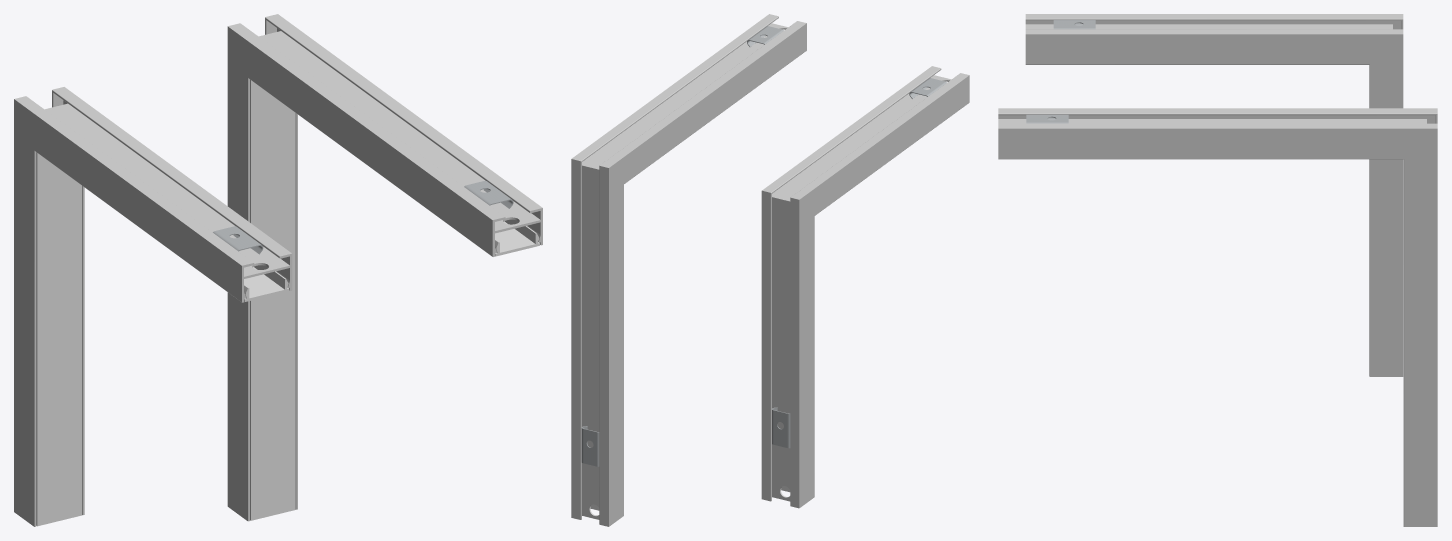
The model's file is Fit25Plafon-curva-teto-parede.glb.
The picture shows the model from 3 angles, left to right: view 1: azimuth 30°, elevation 25°; view 2: azimuth 150°, elevation 25°; view 3: azimuth 270°, elevation 25°; orthographic projection. The views are drawn at different scales.
Visible parts, largest first — view 1: 3DGeom-1 (×2), 3DGeom-7 (×2), 3DGeom-5 (×2), 3DGeom-9 (×2), 3DGeom-11, 3DGeom-3; view 2: 3DGeom-1 (×2), 3DGeom-7 (×2), 3DGeom-3, 3DGeom-11; view 3: 3DGeom-1 (×2), 3DGeom-7 (×2).
Part boxes in pixels (left/top/right/bottom): 3DGeom-1 (×2): left=227, top=14, right=542, bottom=521; 3DGeom-7 (×2): left=14, top=87, right=292, bottom=526; 3DGeom-5 (×2): left=250, top=79, right=539, bottom=520; 3DGeom-9 (×2): left=36, top=152, right=289, bottom=526; 3DGeom-11: left=213, top=226, right=263, bottom=254; 3DGeom-3: left=464, top=180, right=513, bottom=208; 3DGeom-1 (×2): left=571, top=14, right=806, bottom=526; 3DGeom-7 (×2): left=761, top=66, right=969, bottom=508; 3DGeom-3: left=581, top=426, right=599, bottom=466; 3DGeom-11: left=772, top=407, right=790, bottom=448; 3DGeom-1 (×2): left=998, top=108, right=1437, bottom=526; 3DGeom-7 (×2): left=1025, top=14, right=1403, bottom=376.
Size of the model in its own units: 0.155 by 0.25 by 0.25.
Materials: 2 (1 with a texture image).
